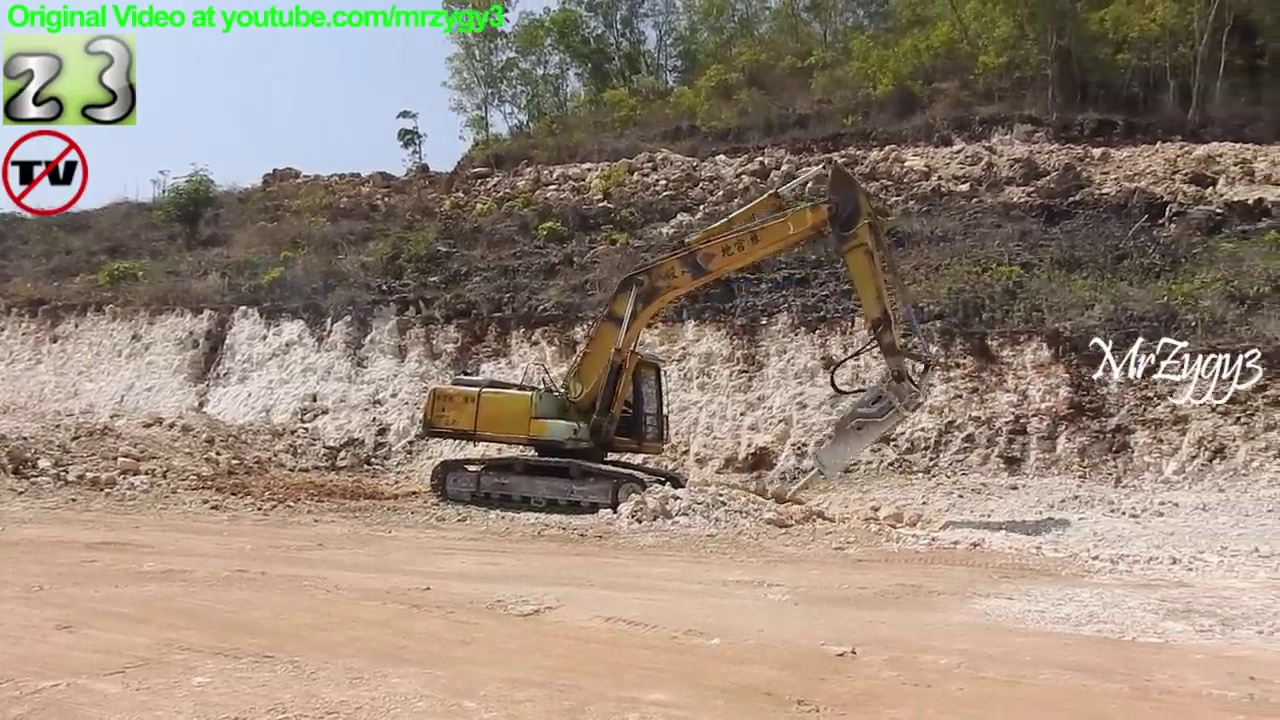excavator breaker: (416, 157, 941, 527)
